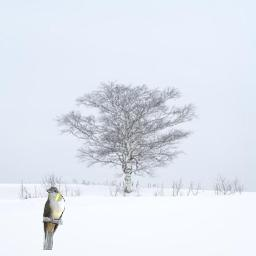Cuckoo: (42, 187, 65, 250)
